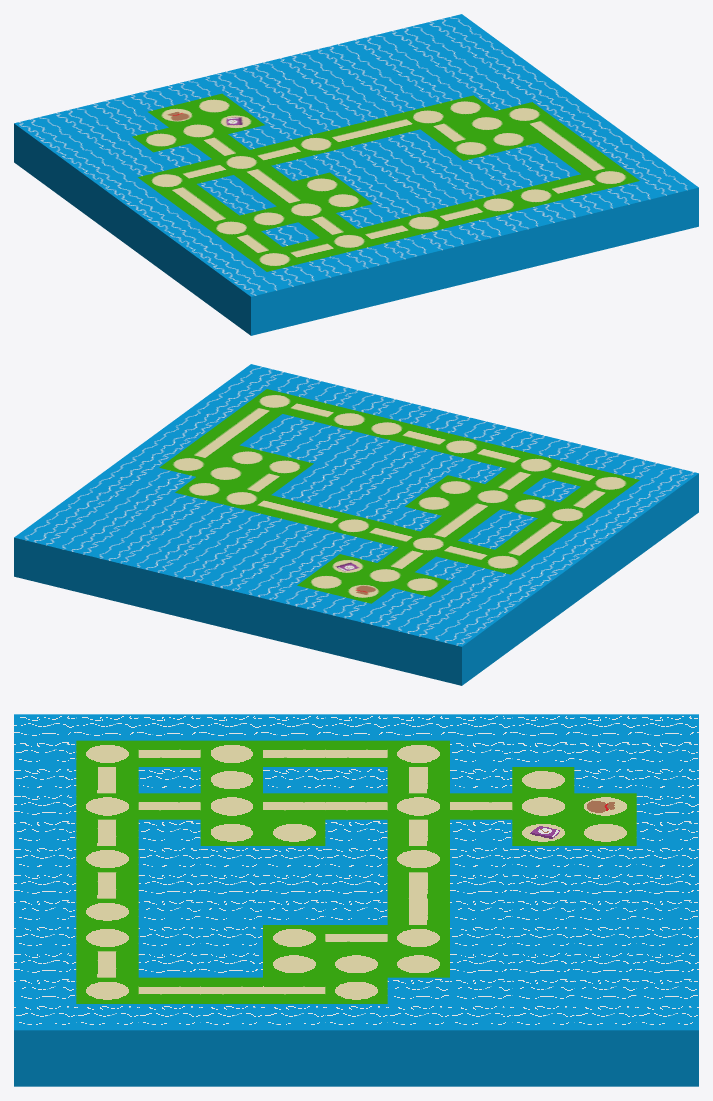
File: Stage.fbx
The picture shows the model from 3 angles, top to bottom: view 1: azimuth 30°, elevation 25°; view 2: azimuth 150°, elevation 25°; view 3: azimuth 270°, elevation 25°; orthographic projection. The views are drawn at different scales.
Visible parts, largest first — view 1: Tile_10_0_id0, Tile_10_8_id0, Tile_10_3_id0, Tile_10_10_id0, Tile_10_11_id0, Tile_10_4_id0, Tile_10_7_id0, Tile_10_9_id0, Tile_10_1_id0, Tile_10_2_id0, Tile_10_6_id0, Tile_10_5_id0 (+120 smaller); view 2: Tile_0_0_id0, Tile_0_8_id0, Tile_0_3_id0, Tile_0_10_id0, Tile_0_11_id0, Tile_0_4_id0, Tile_0_7_id0, Tile_0_9_id0, Tile_0_1_id0, Tile_0_2_id0, Tile_0_6_id0, Tile_0_5_id0 (+120 smaller); view 3: Tile_0_11_id0, Tile_10_11_id0, Tile_1_11_id0, Tile_2_11_id0, Tile_3_11_id0, Tile_4_11_id0, Tile_5_11_id0, Tile_6_11_id0, Tile_7_11_id0, Tile_8_11_id0, Tile_9_11_id0, Tile_0_0_id0 (+120 smaller).
Part boxes in pixels (x1,y1,x2,y2): Tile_10_0_id0: (229, 272, 288, 335); Tile_10_8_id0: (528, 199, 586, 262); Tile_10_3_id0: (342, 244, 400, 308); Tile_10_10_id0: (603, 181, 661, 244); Tile_10_11_id0: (640, 172, 698, 235); Tile_10_4_id0: (379, 235, 437, 299); Tile_10_7_id0: (491, 208, 549, 271); Tile_10_9_id0: (566, 190, 624, 253); Tile_10_1_id0: (267, 263, 325, 326); Tile_10_2_id0: (304, 254, 362, 317); Tile_10_6_id0: (454, 217, 512, 281); Tile_10_5_id0: (416, 226, 474, 290); Tile_0_0_id0: (424, 622, 483, 685); Tile_0_8_id0: (126, 549, 184, 612); Tile_0_3_id0: (312, 594, 370, 658); Tile_0_10_id0: (51, 531, 109, 594); Tile_0_11_id0: (14, 522, 72, 585); Tile_0_4_id0: (275, 585, 333, 649); Tile_0_7_id0: (163, 558, 221, 621); Tile_0_9_id0: (88, 540, 146, 603); Tile_0_1_id0: (387, 613, 445, 676); Tile_0_2_id0: (350, 604, 408, 667); Tile_0_6_id0: (200, 567, 258, 631); Tile_0_5_id0: (238, 576, 296, 640); Tile_0_11_id0: (636, 1004, 698, 1086); Tile_10_11_id0: (14, 1004, 76, 1086); Tile_1_11_id0: (574, 1004, 636, 1086); Tile_2_11_id0: (512, 1004, 574, 1086); Tile_3_11_id0: (450, 1004, 512, 1086); Tile_4_11_id0: (387, 1004, 449, 1086); Tile_5_11_id0: (325, 1004, 387, 1086); Tile_6_11_id0: (263, 1004, 325, 1086); Tile_7_11_id0: (200, 1004, 262, 1086); Tile_8_11_id0: (138, 1004, 200, 1086); Tile_9_11_id0: (76, 1004, 138, 1086); Tile_0_0_id0: (636, 714, 698, 740).
Bounding box in the file's own units: 2400 × 200 × 2200.
